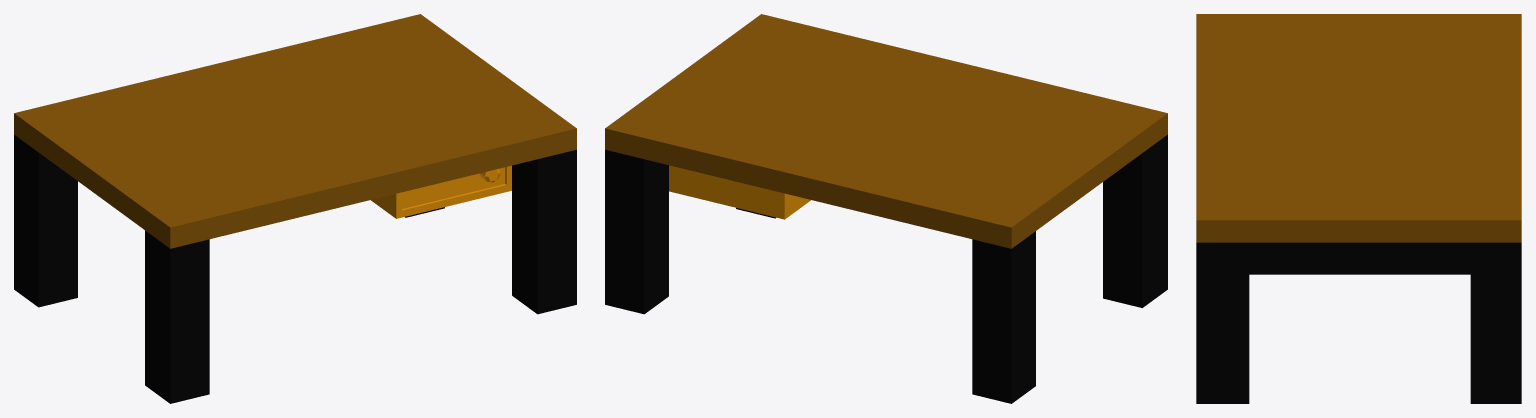
File: Final_Table.fbx
3 renders of one model, left to right at view 1: azimuth 30°, elevation 25°; view 2: azimuth 150°, elevation 25°; view 3: azimuth 270°, elevation 25°, orthographic. The views are drawn at different scales.
Visible parts, largest first — view 1: Cube.001; view 2: Cube.001; view 3: Cube.001.
Boxes of the visible parts, x1=… form: Cube.001: x1=14, y1=14, x2=576, y2=403; Cube.001: x1=605, y1=14, x2=1167, y2=403; Cube.001: x1=1196, y1=14, x2=1521, y2=403.
Size of the model in its own units: 1059 by 439 by 706.
